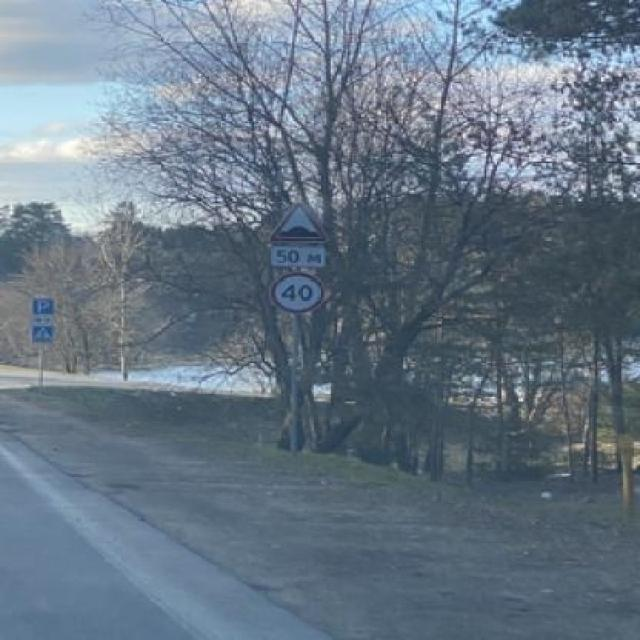forb_speed_over_40: (268, 269, 327, 314)
